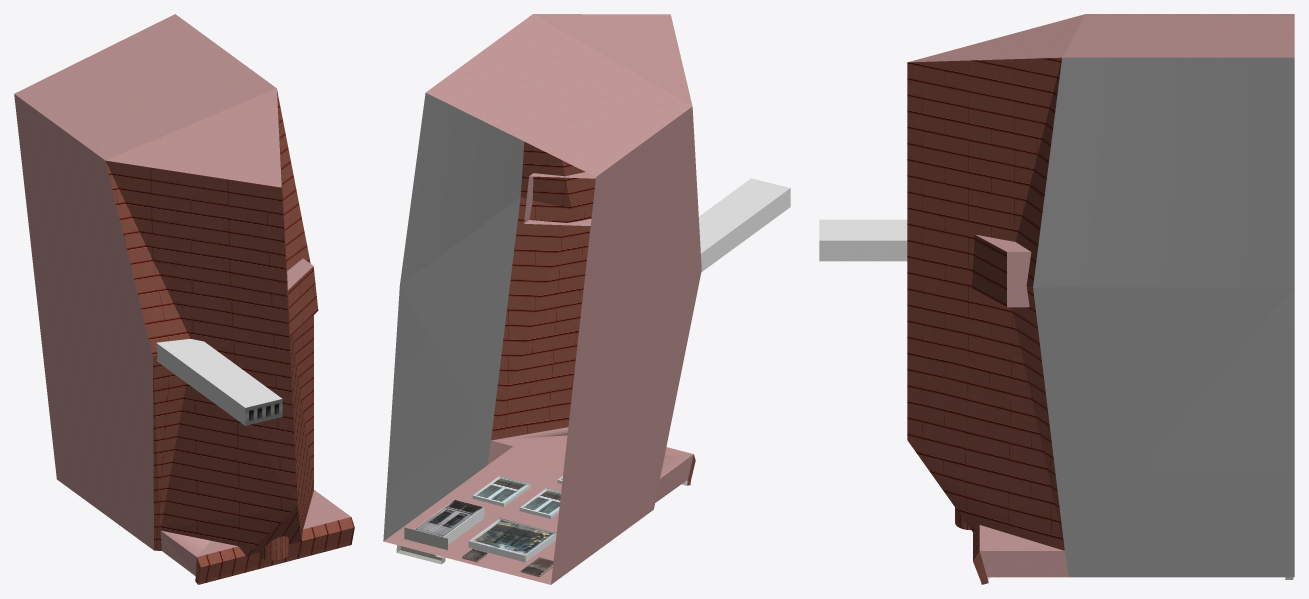
The model's file is Niguliste_6.obj.
3 views of the same model, side by side, from view 1: azimuth 30°, elevation 25°; view 2: azimuth 150°, elevation 25°; view 3: azimuth 270°, elevation 25° (orthographic). The views are drawn at different scales.
Parts seen in each view (by area): view 1: Niguliste_6; view 2: Niguliste_6; view 3: Niguliste_6.
Boxes of the visible parts, x1,y1,x2,y2 form: Niguliste_6: (14,14,354,584); Niguliste_6: (383,14,790,584); Niguliste_6: (819,14,1294,584).
Size of the model in its own units: 10.18 by 21.44 by 18.19.
